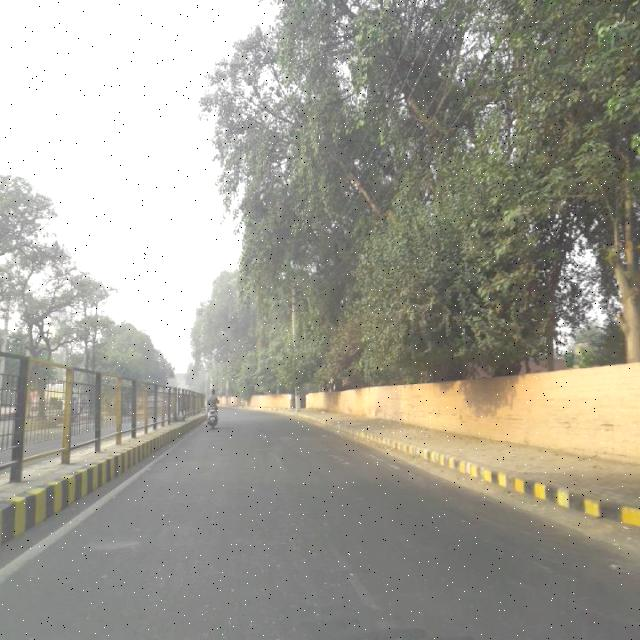D44: (326, 532, 380, 618), (362, 445, 414, 472)
